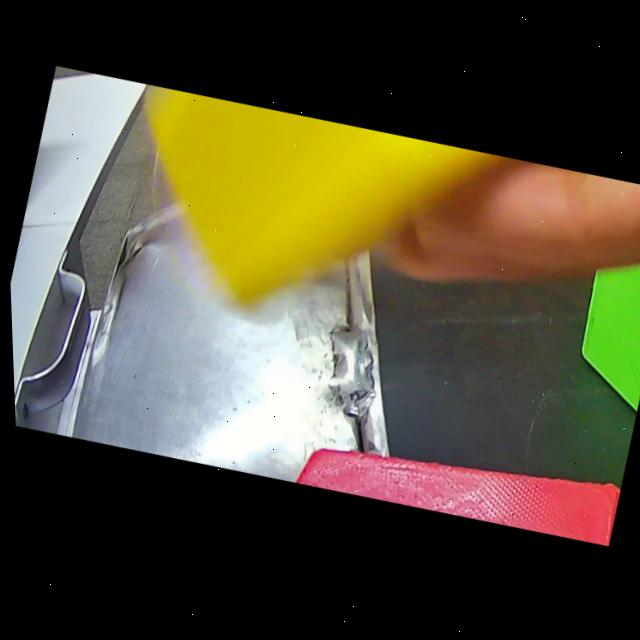greenBox: (538, 189, 640, 482)
redBox: (281, 406, 620, 563)
yellowBox: (93, 67, 640, 423)
